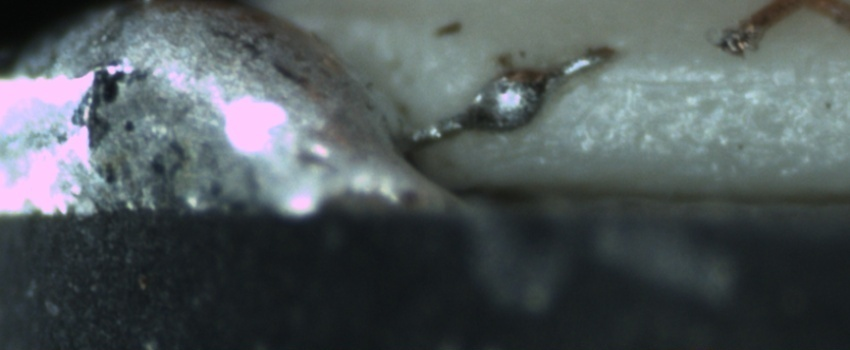DL: (614, 49, 849, 110)
TB: (467, 66, 545, 134)
TTCW: (398, 34, 626, 149)
